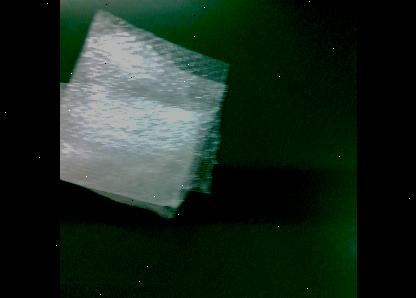Others: (61, 14, 235, 218)
